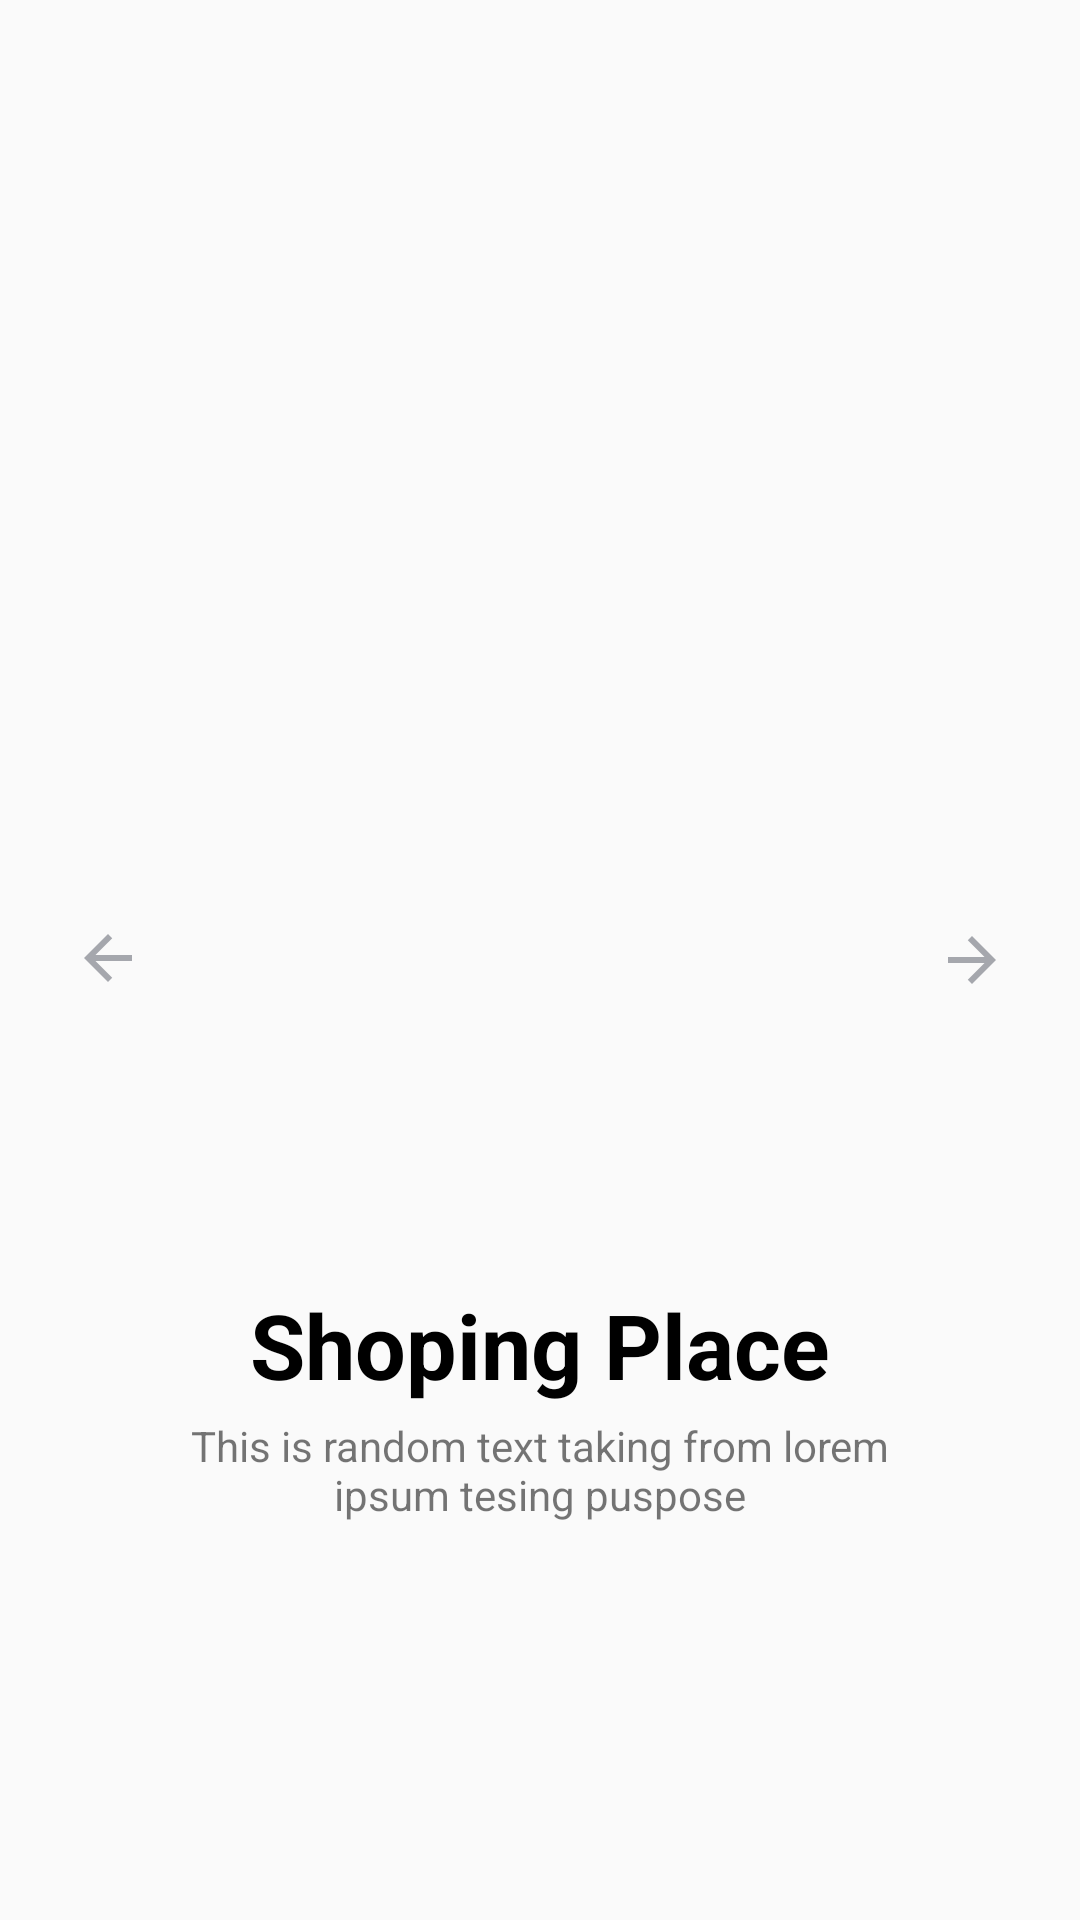

Named icons in this screenshot (1080 × 1920) and their centers, (x=x, y=y):
arrow back: (x=108, y=958)
arrow forward: (x=972, y=960)
